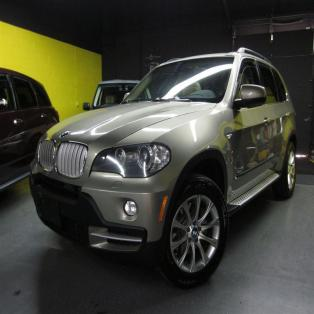Auto: (30, 46, 297, 279)
